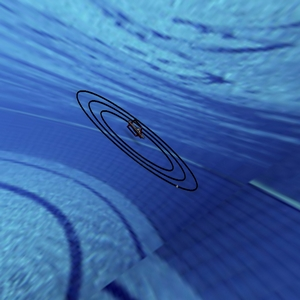circle: (69, 72, 208, 206)
submarine: (122, 113, 148, 144)
